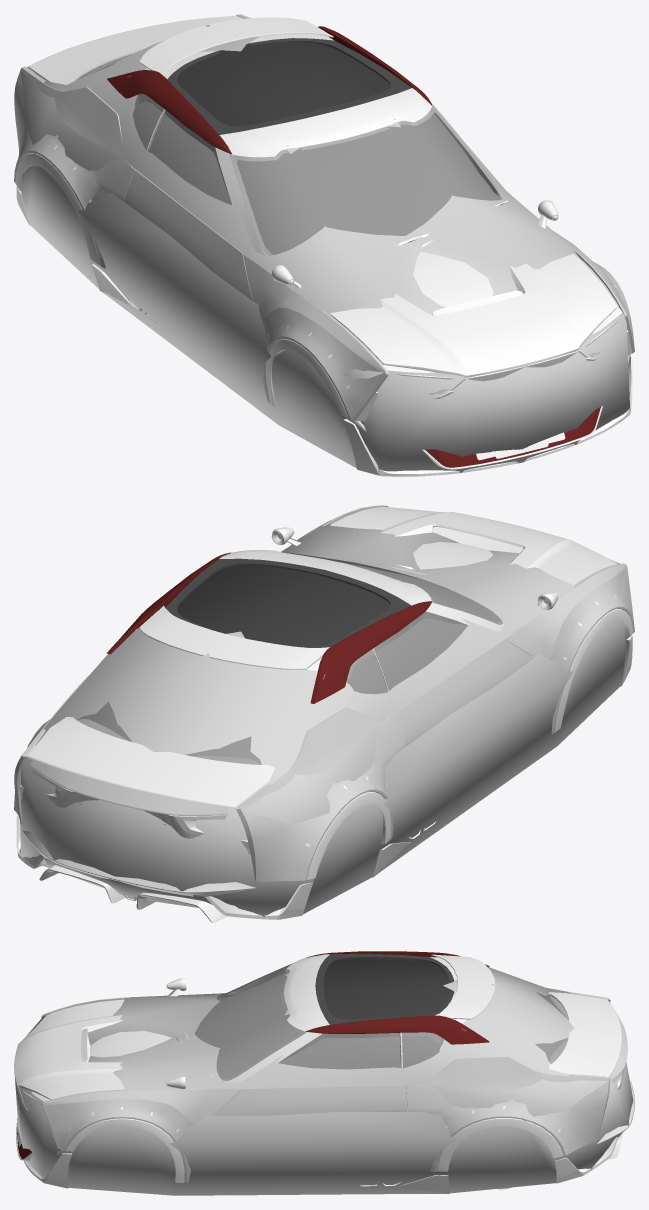
The model's file is RMCar06.FBX.
The picture shows the model from 3 angles, top to bottom: view 1: azimuth 30°, elevation 25°; view 2: azimuth 150°, elevation 25°; view 3: azimuth 270°, elevation 25°; orthographic projection. The views are drawn at different scales.
Parts seen in each view (by area): view 1: RMCar06_Body_Col, RMCar06_Paint_LOD0, RMCar06_Windows_LOD0, RMCar06_Body_LOD0, RMCar06_Interior_LOD0, RMCar06_DayTimeLight_LOD0; view 2: RMCar06_Body_Col, RMCar06_Paint_LOD0, RMCar06_Windows_LOD0, RMCar06_Body_LOD0, RMCar06_Interior_LOD0, RMCar06_Grid_LOD0, RMCar06_BrakeLights_LOD0; view 3: RMCar06_Body_Col, RMCar06_Paint_LOD0, RMCar06_Windows_LOD0, RMCar06_Body_LOD0, RMCar06_Interior_LOD0.
Part boxes in pixels (left/top/right/bottom): RMCar06_Body_Col: left=20, top=25, right=630, bottom=474; RMCar06_Paint_LOD0: left=14, top=14, right=634, bottom=476; RMCar06_Windows_LOD0: left=77, top=38, right=502, bottom=254; RMCar06_Body_LOD0: left=20, top=33, right=629, bottom=406; RMCar06_Interior_LOD0: left=77, top=38, right=502, bottom=254; RMCar06_DayTimeLight_LOD0: left=382, top=307, right=627, bottom=394; RMCar06_Body_Col: left=20, top=524, right=628, bottom=917; RMCar06_Paint_LOD0: left=14, top=505, right=634, bottom=922; RMCar06_Windows_LOD0: left=77, top=552, right=502, bottom=764; RMCar06_Body_LOD0: left=166, top=527, right=629, bottom=846; RMCar06_Interior_LOD0: left=77, top=559, right=502, bottom=764; RMCar06_Grid_LOD0: left=432, top=527, right=523, bottom=553; RMCar06_BrakeLights_LOD0: left=19, top=768, right=248, bottom=845; RMCar06_Body_Col: left=14, top=956, right=633, bottom=1195; RMCar06_Paint_LOD0: left=14, top=951, right=634, bottom=1193; RMCar06_Windows_LOD0: left=195, top=953, right=568, bottom=1080; RMCar06_Body_LOD0: left=16, top=954, right=560, bottom=1186; RMCar06_Interior_LOD0: left=223, top=954, right=568, bottom=1081.
Size of what is drawn, in the model's own units: 1782 by 4103 by 1178.
